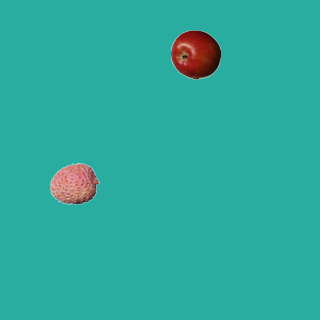Apple Braeburn: (170, 29, 220, 79)
Lychee: (49, 158, 99, 208)
